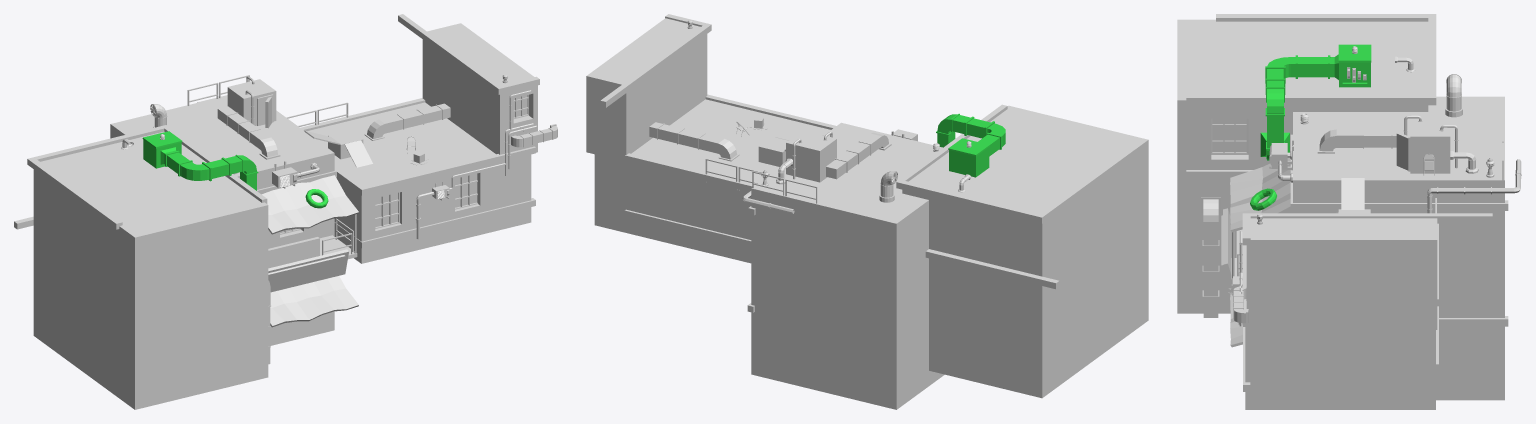
The model's file is Second_Level.fbx.
The picture shows the model from 3 angles, left to right: view 1: azimuth 30°, elevation 25°; view 2: azimuth 150°, elevation 25°; view 3: azimuth 270°, elevation 25°; orthographic projection. The views are drawn at different scales.
Parts seen in each view (by area): view 1: Building4, Building1, Building3, Building2, Roof_Corrugated_Sheet1_1, Roof_Corrugated_Sheet1_2, Building_Border3_1, Building_Border1_1, Airvent2_1, Billboard, Building_Border2_1, Building_Border1_2 (+10 smaller); view 2: Building4, Building3, Building1, Building2, Building_Border3_1, Building_Border1_1, Building_Small2, Airvent2_1, Airvent1_3, Building_Border2_1, Building_Border2_5, Building_Small1 (+3 smaller); view 3: Building3, Building4, Building2, Building1, Building_Border3_1, Airvent2_1, Roof_Corrugated_Sheet1_1, Building_Small2, Airvent1_2, Building_Border2_1, Building_Border2_3, Airvent1_1 (+17 smaller).
Boxes of the visible parts, x1,y1,x2,y2 form: Building4: [33, 131, 268, 409]; Building1: [307, 102, 531, 263]; Building3: [110, 95, 334, 345]; Building2: [422, 23, 537, 154]; Roof_Corrugated_Sheet1_1: [261, 175, 358, 234]; Roof_Corrugated_Sheet1_2: [270, 276, 358, 327]; Building_Border3_1: [27, 125, 267, 229]; Building_Border1_1: [300, 98, 535, 195]; Airvent2_1: [160, 147, 258, 190]; Billboard: [268, 249, 348, 292]; Building_Border2_1: [398, 14, 539, 94]; Building_Border1_2: [334, 198, 535, 248]; Building4: [902, 105, 1148, 398]; Building3: [751, 122, 944, 409]; Building1: [594, 99, 830, 263]; Building2: [586, 18, 707, 161]; Building_Border3_1: [896, 104, 1135, 223]; Building_Border1_1: [624, 94, 835, 191]; Building_Small2: [786, 130, 836, 182]; Airvent2_1: [936, 113, 1005, 156]; Airvent1_3: [649, 122, 739, 161]; Building_Border2_1: [600, 14, 711, 107]; Building_Border2_5: [925, 249, 1059, 289]; Building_Small1: [948, 138, 989, 177]; Building3: [1293, 96, 1504, 400]; Building4: [1177, 19, 1428, 313]; Building2: [1246, 218, 1437, 329]; Building1: [1245, 327, 1435, 409]; Building_Border3_1: [1186, 14, 1436, 105]; Airvent2_1: [1260, 54, 1338, 160]; Roof_Corrugated_Sheet1_1: [1230, 158, 1290, 232]; Building_Small2: [1410, 117, 1450, 173]; Airvent1_2: [1201, 197, 1220, 317]; Building_Border2_1: [1242, 213, 1492, 245]; Building_Border2_3: [1290, 134, 1508, 210]; Airvent1_1: [1317, 128, 1408, 153].
Size of the model in its own units: 5690 by 2645 by 2942.
